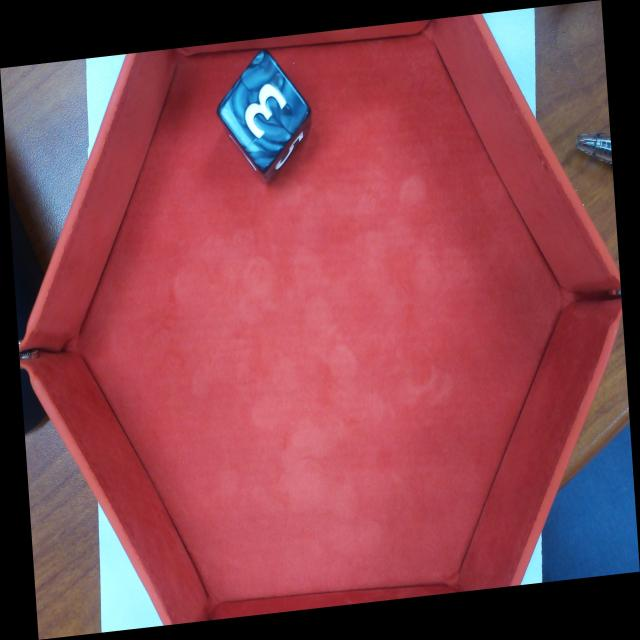dice: (216, 49, 311, 173)
